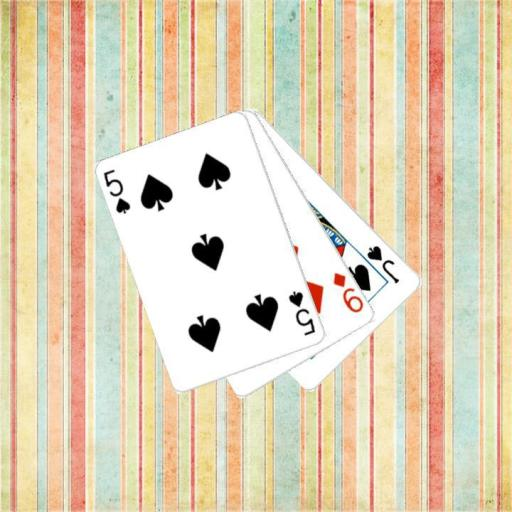5S: (286, 288, 318, 338), (101, 167, 133, 217)
9D: (330, 270, 365, 315)
JS: (363, 242, 401, 285)
